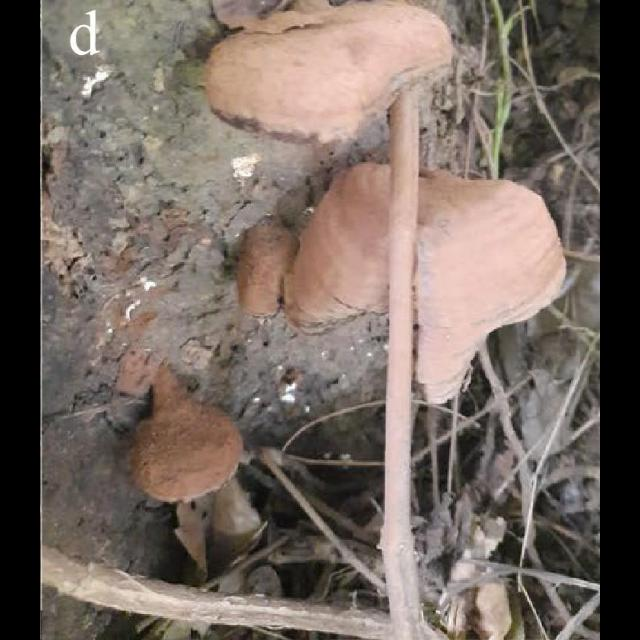ganoderma: (236, 157, 571, 406), (204, 3, 457, 150), (129, 402, 249, 507)
